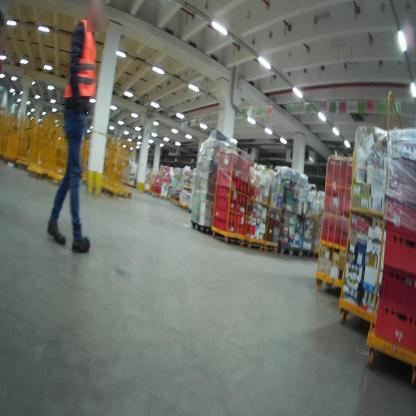small_load_carrier: (371, 299, 416, 355), (377, 263, 416, 322), (381, 228, 413, 278), (382, 196, 415, 242)
